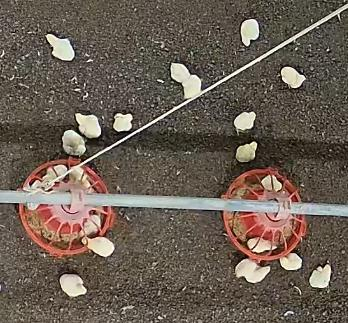chick: (44, 32, 76, 61), (234, 260, 270, 282), (73, 110, 101, 138), (59, 272, 88, 297), (80, 236, 116, 256), (62, 130, 86, 158), (233, 110, 258, 136), (310, 263, 332, 290), (280, 66, 308, 87), (245, 236, 277, 253), (241, 18, 258, 49), (78, 214, 101, 236), (182, 76, 204, 98), (260, 172, 284, 192), (41, 163, 66, 182), (112, 111, 132, 134), (279, 252, 304, 270), (71, 164, 88, 189), (235, 142, 256, 162), (172, 62, 190, 83)
rice: (18, 156, 113, 258), (220, 166, 308, 262)
